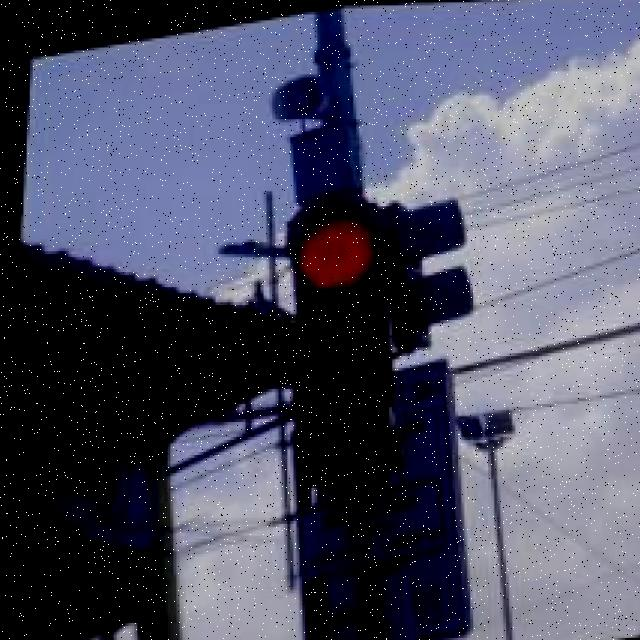Lampu Merah: (262, 184, 414, 486)
